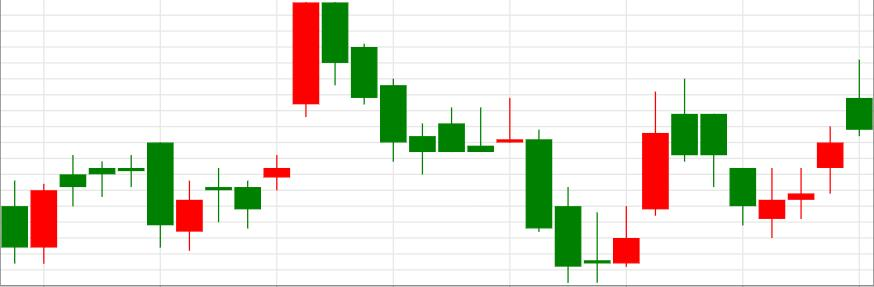morning_star_rise: (496, 97, 641, 282)
three_black_crows_fall: (175, 2, 407, 250)
